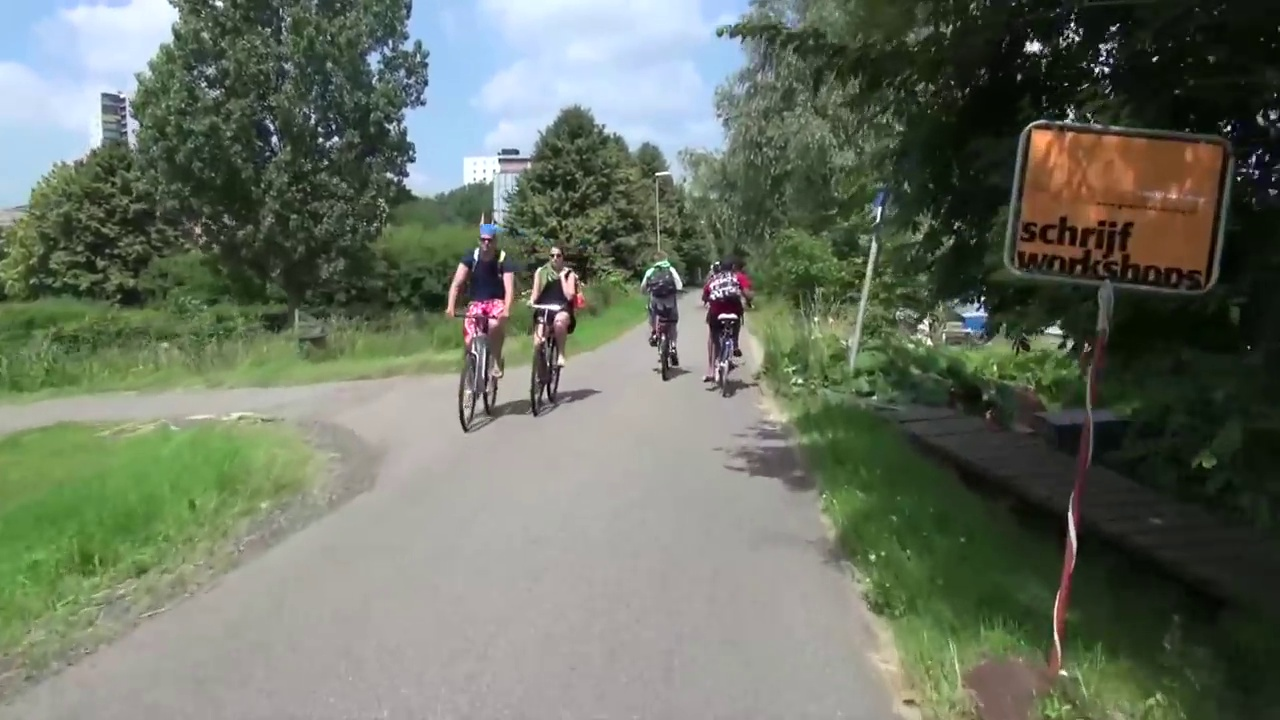cyclist_back: (704, 252, 748, 400), (640, 249, 688, 384)
cyclist_front: (445, 220, 520, 431), (522, 236, 575, 418)
